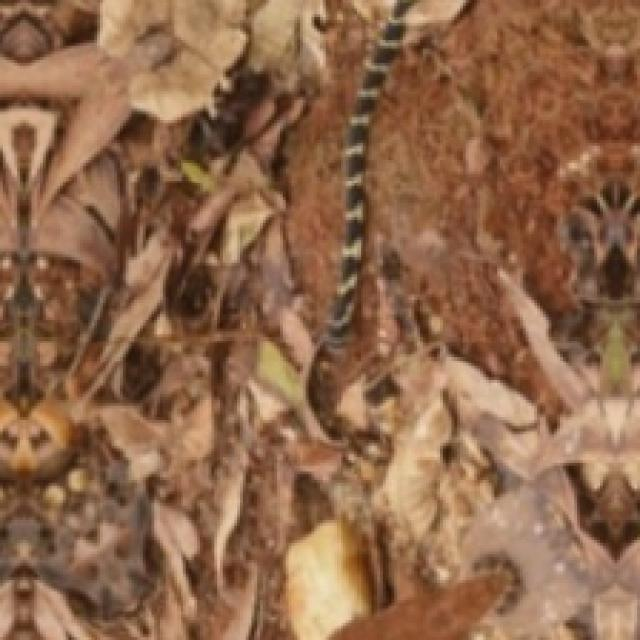king cobra: (309, 0, 420, 417)
